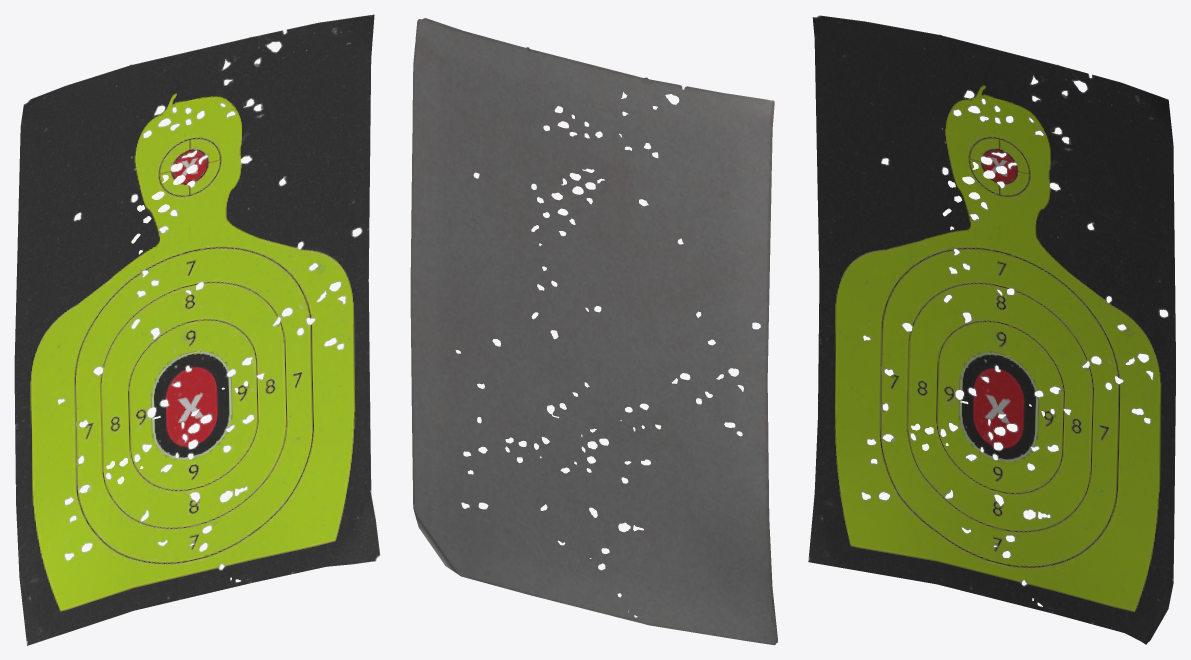
The model's file is SM_Paper_Targets_01d.glb.
The picture shows the model from 3 angles, left to right: view 1: azimuth 30°, elevation 25°; view 2: azimuth 150°, elevation 25°; view 3: azimuth 330°, elevation 25°; orthographic projection.
Parts seen in each view (by area): view 1: SM_Paper_Targets_01d; view 2: SM_Paper_Targets_01d; view 3: SM_Paper_Targets_01d.
Part boxes in pixels (bbox=[...]): SM_Paper_Targets_01d: bbox=[14, 14, 380, 645]; SM_Paper_Targets_01d: bbox=[410, 18, 777, 645]; SM_Paper_Targets_01d: bbox=[808, 15, 1175, 644].
Size of the model in its own units: 0.6603 by 0.9674 by 0.0778.
Materials: 1 (1 with a texture image).
